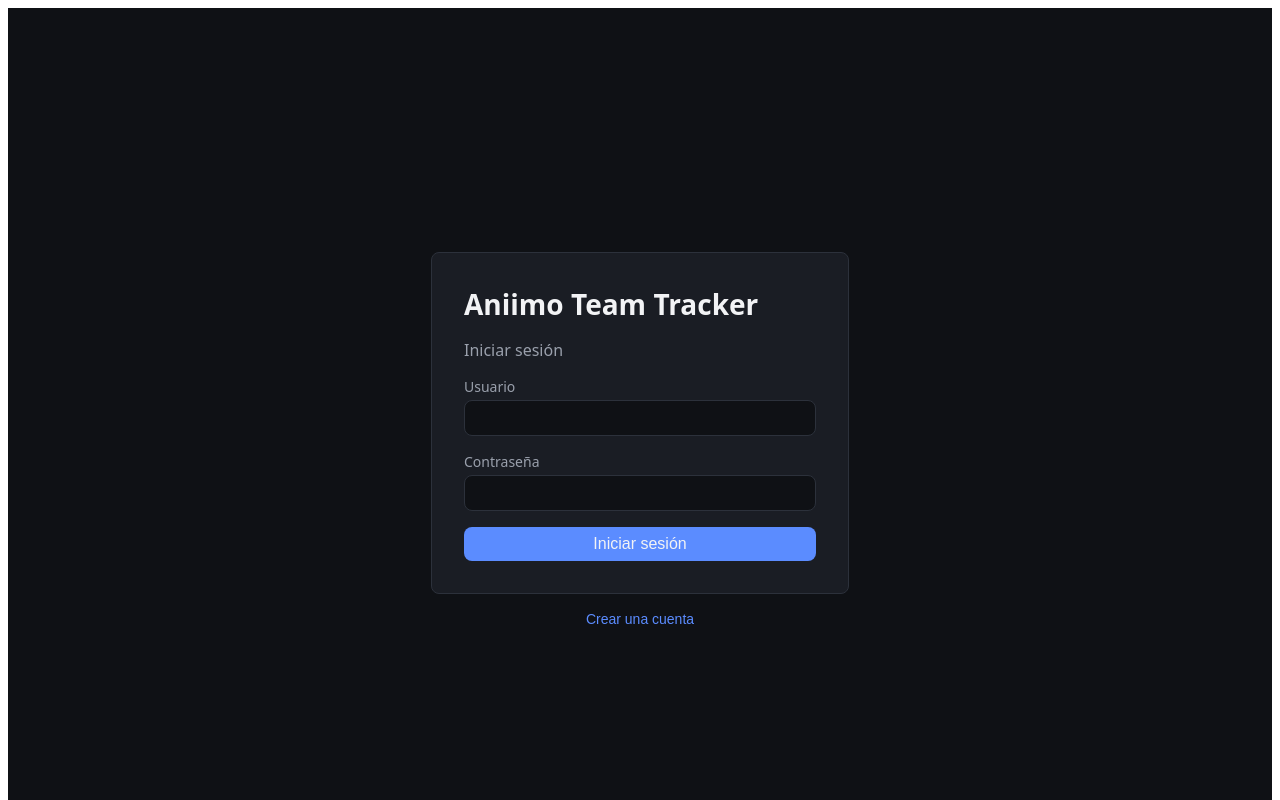
estado de envio › un login con el backend apagado muestra el mensaje que orienta
The width and height of the screenshot is (1280, 800).
Expected: the button "Iniciar sesión" is shown, [464,527,816,561]
Type "axel" into the field labelled "Usuario".
click(640, 418); type("axel")  # box [464,400,816,436]
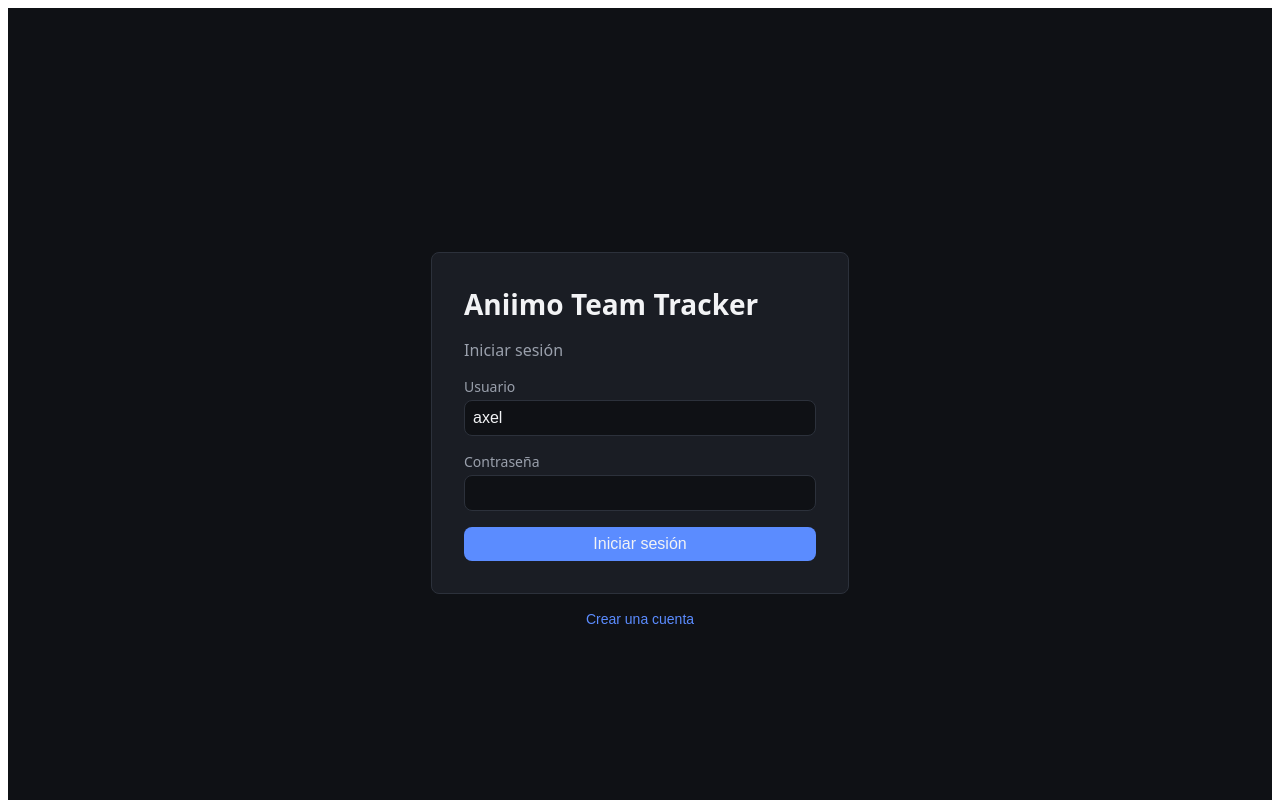
Type "una-clave-larga" into the password field labelled "Contraseña".
click(640, 493); type("una-clave-larga")  # box [464,475,816,511]
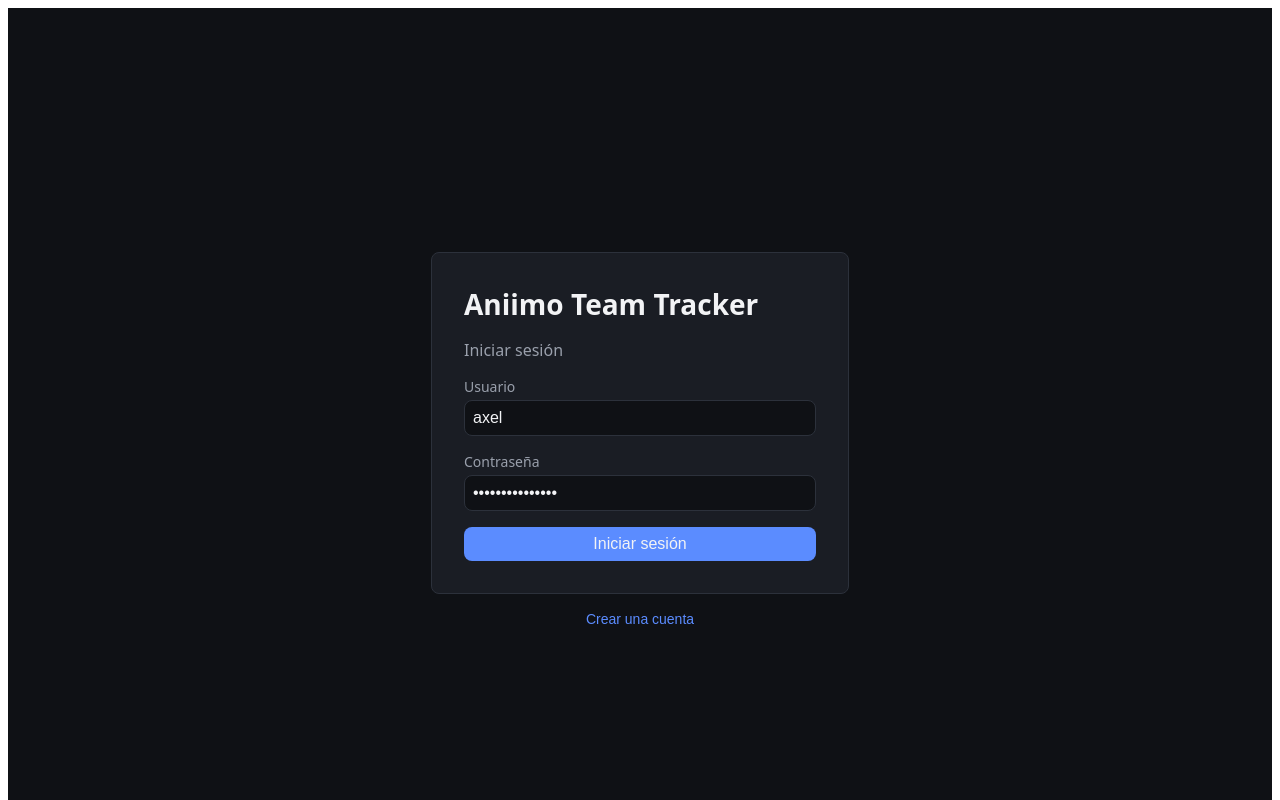
Click the button "Iniciar sesión".
click(640, 544)  # box [464,527,816,561]
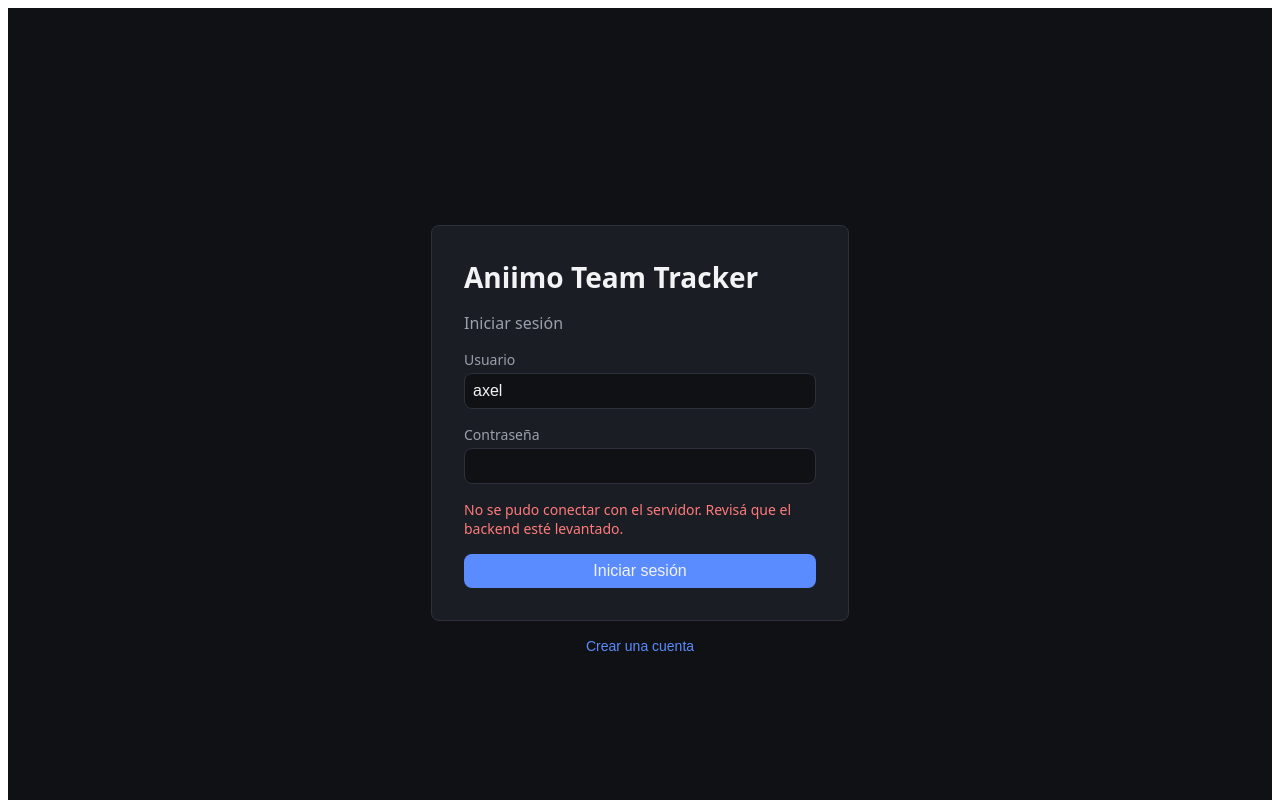
Expected: the text "No se pudo conectar con el servidor. Revisá que el backend esté levantado." is shown, [464,500,816,538]
